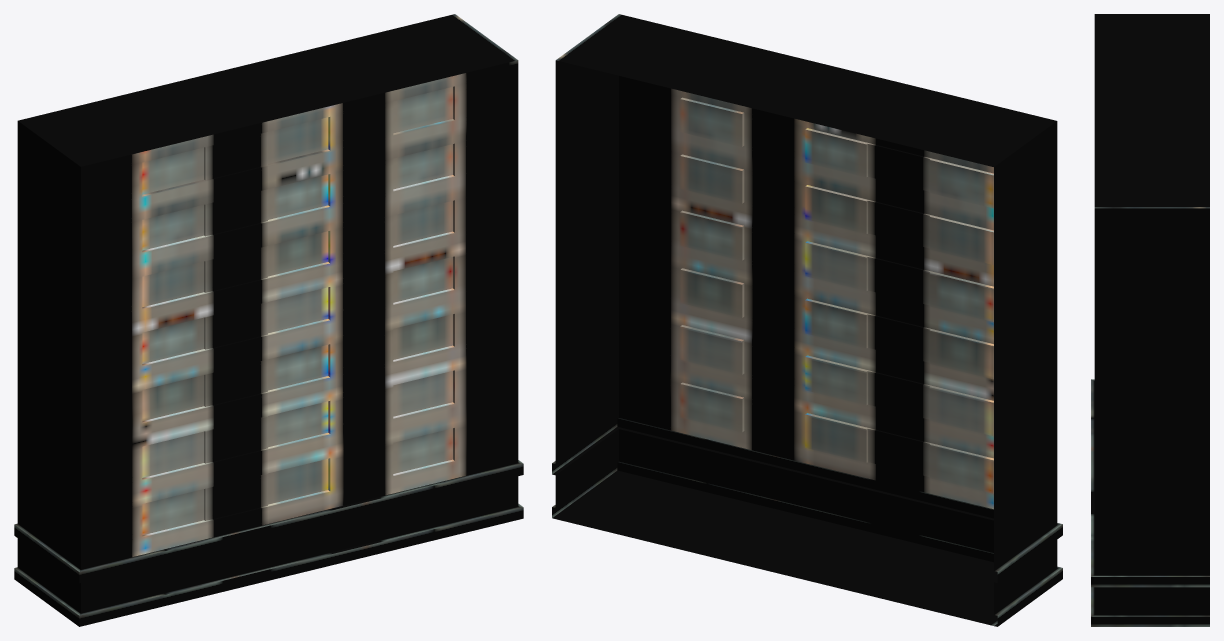
Rendered from Pagoda_Body_Tile_2500x2500_B.FBX.
3 views of the same model, side by side, from view 1: azimuth 30°, elevation 25°; view 2: azimuth 150°, elevation 25°; view 3: azimuth 270°, elevation 25° (orthographic). The views are drawn at different scales.
Visible parts, largest first — view 1: Geometry_Pagoda_Body_Tile_2500x2500_B_LOD00; view 2: Geometry_Pagoda_Body_Tile_2500x2500_B_LOD00; view 3: Geometry_Pagoda_Body_Tile_2500x2500_B_LOD00.
Boxes of the visible parts, left/top/right/bottom form: Geometry_Pagoda_Body_Tile_2500x2500_B_LOD00: left=14, top=14, right=523, bottom=626; Geometry_Pagoda_Body_Tile_2500x2500_B_LOD00: left=552, top=14, right=1062, bottom=626; Geometry_Pagoda_Body_Tile_2500x2500_B_LOD00: left=1091, top=14, right=1209, bottom=626.
Size of what is drawn, in the model's own units: 2540 by 2500 by 645.
